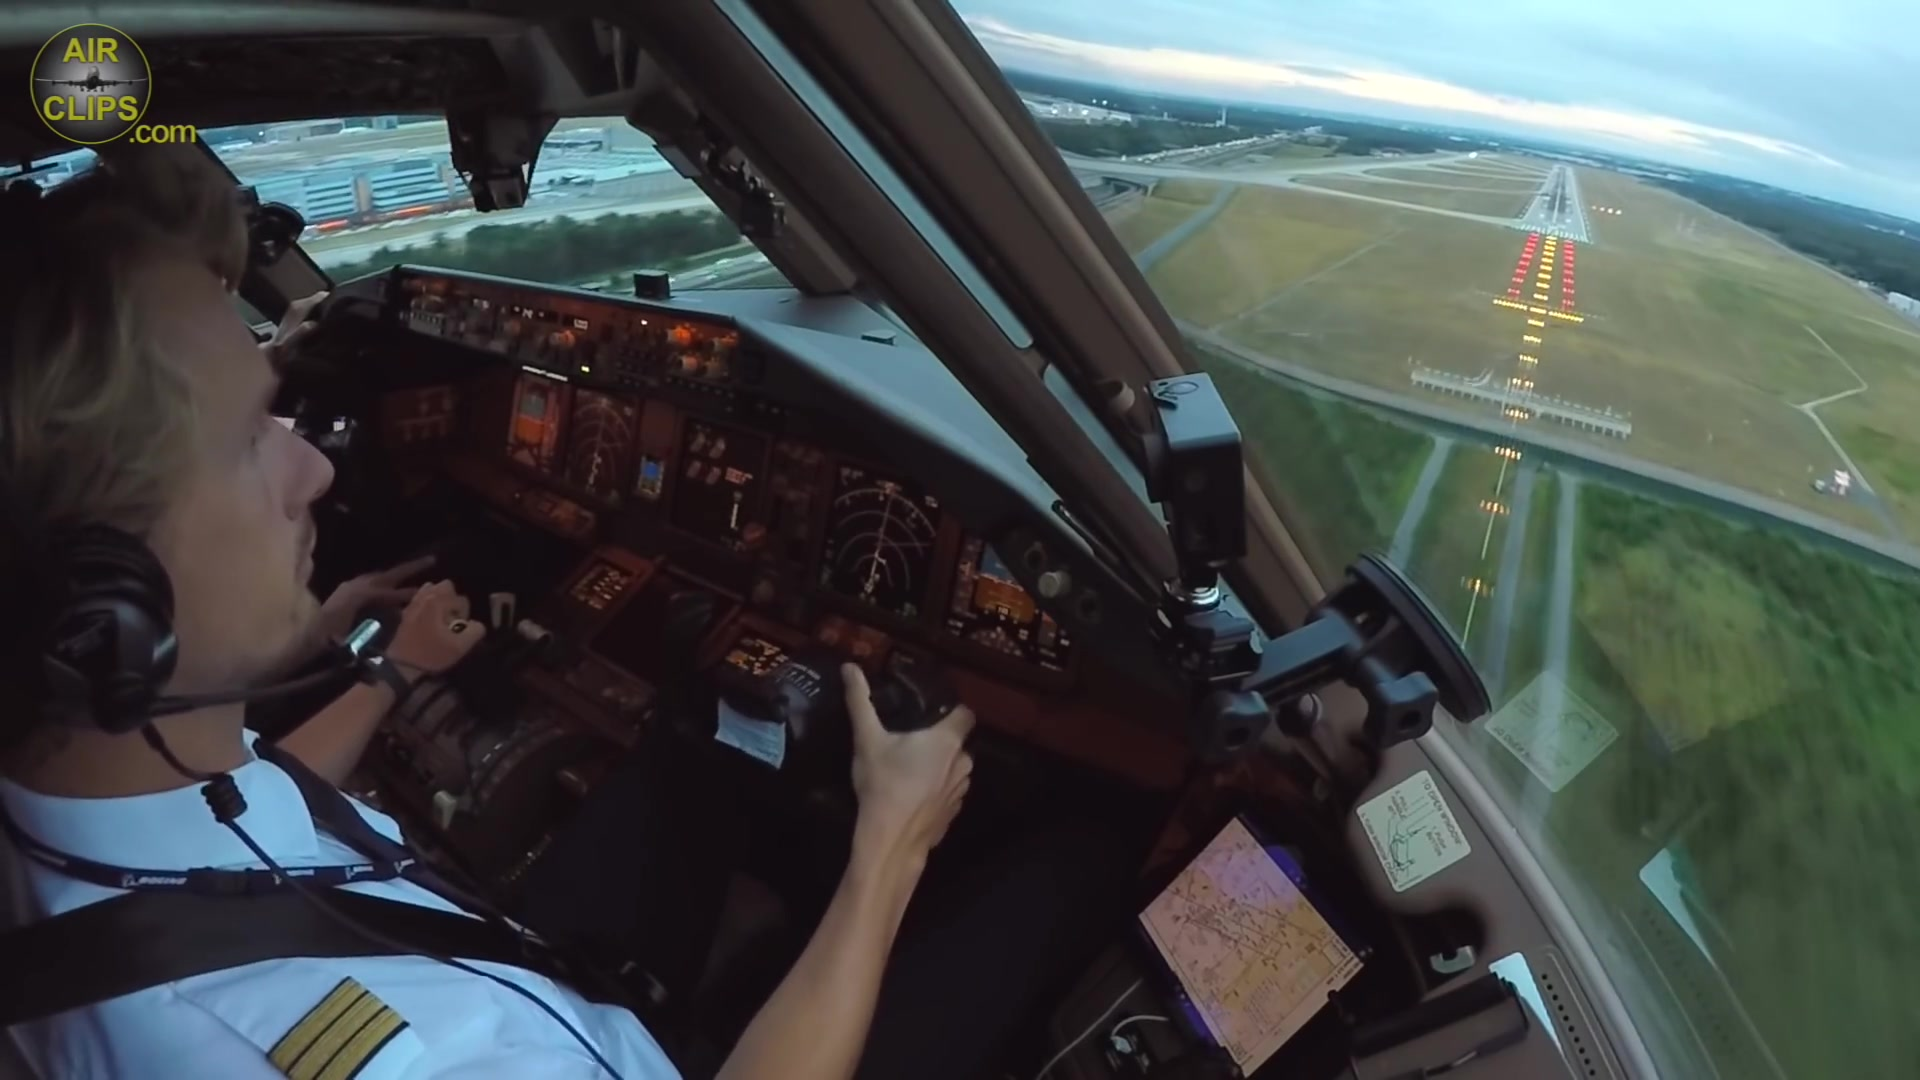runway: (1519, 164, 1592, 243)
